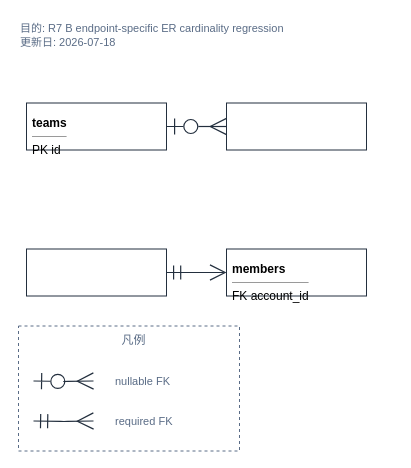
Image size: 411x468. Some labels were removed from this diagram. The shapes that lost their labels are listed below. From the top down, each one's centre as x and y in pixels, then its label:
At point 296,126: "projects FK team_id".
At point 96,272: "accounts PK id".
